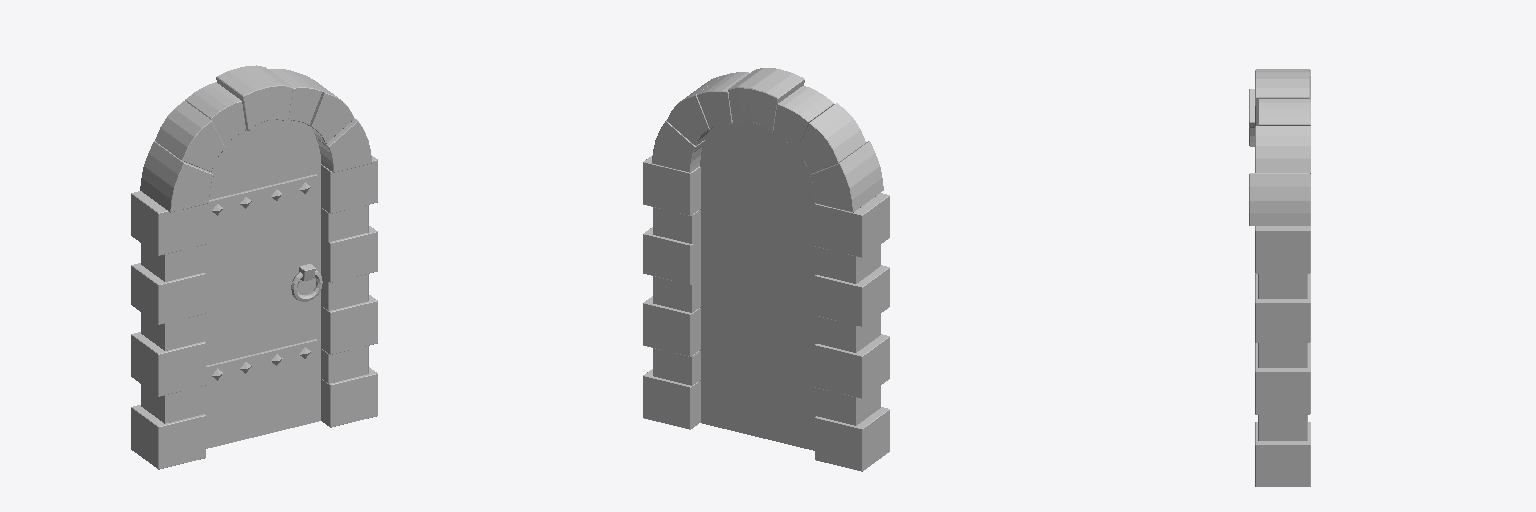
File: puertaLowPoly.obj
3 views of the same model, side by side, from view 1: azimuth 30°, elevation 25°; view 2: azimuth 150°, elevation 25°; view 3: azimuth 270°, elevation 25° (orthographic).
Visible parts, largest first — view 1: tablonPuerta2_Cube.006, tablonPuerta4_Cube.007, tablonPuerta3_Cube.008, tablonPuerta1_Cube.001, marcoPiedra1_Cube.013, marcoPiedra3_Cube.015, marcoPiedra7_Cube.019, arco1_Cube.020, marcoPiedra5_Cube.017, arcoCentral_Cube.023, arco2_Cube.021, marcoPiedra3_mirrow_Cube.015 (+16 smaller); view 2: tablonPuerta2_Cube.006, tablonPuerta4_Cube.007, tablonPuerta3_Cube.008, tablonPuerta1_Cube.001, marcoPiedra3_Cube.015, marcoPiedra1_Cube.013, marcoPiedra7_Cube.019, arco1_Cube.020, marcoPiedra5_Cube.017, arcoCentral_Cube.023, arco2_Cube.021, marcoPiedra3_mirrow_Cube.015 (+13 smaller); view 3: arco1_mirrow_Cube.020, marcoPiedra3_mirrow_Cube.015, marcoPiedra1_mirrow_Cube.013, marcoPiedra7_mirrow_Cube.019, arco2_mirrow_Cube.021, marcoPiedra5_mirrow_Cube.017, arcoCentral_Cube.023, arco3_mirrow_Cube.022, marcoPiedra2_mirrow_Cube.014, marcoPiedra4_mirrow_Cube.016, marcoPiedra6_mirrow_Cube.018.
Part boxes in pixels (x1,y1,x2,y2): tablonPuerta2_Cube.006: (227, 124, 258, 443); tablonPuerta4_Cube.007: (259, 120, 289, 435); tablonPuerta3_Cube.008: (290, 120, 320, 427); tablonPuerta1_Cube.001: (205, 144, 226, 448); marcoPiedra1_Cube.013: (131, 405, 205, 469); marcoPiedra3_Cube.015: (131, 332, 205, 396); marcoPiedra7_Cube.019: (131, 191, 205, 255); arco1_Cube.020: (140, 141, 213, 212); marcoPiedra5_Cube.017: (131, 263, 205, 324); arcoCentral_Cube.023: (216, 65, 292, 130); arco2_Cube.021: (155, 101, 224, 171); marcoPiedra3_mirrow_Cube.015: (321, 295, 377, 354); tablonPuerta2_Cube.006: (762, 126, 793, 445); tablonPuerta4_Cube.007: (731, 122, 761, 437); tablonPuerta3_Cube.008: (700, 124, 730, 429); tablonPuerta1_Cube.001: (794, 149, 816, 450); marcoPiedra3_Cube.015: (815, 334, 889, 398); marcoPiedra1_Cube.013: (815, 407, 889, 471); marcoPiedra7_Cube.019: (815, 193, 889, 257); arco1_Cube.020: (810, 141, 883, 212); marcoPiedra5_Cube.017: (815, 265, 889, 326); arcoCentral_Cube.023: (728, 68, 804, 132); arco2_Cube.021: (796, 103, 865, 173); marcoPiedra3_mirrow_Cube.015: (643, 296, 700, 356); arco1_mirrow_Cube.020: (1249, 173, 1310, 225); marcoPiedra3_mirrow_Cube.015: (1255, 349, 1310, 414); marcoPiedra1_mirrow_Cube.013: (1255, 422, 1310, 486); marcoPiedra7_mirrow_Cube.019: (1255, 226, 1310, 273); arco2_mirrow_Cube.021: (1255, 126, 1310, 173); marcoPiedra5_mirrow_Cube.017: (1255, 280, 1310, 342); arcoCentral_Cube.023: (1255, 69, 1309, 125); arco3_mirrow_Cube.022: (1259, 99, 1310, 125); marcoPiedra2_mirrow_Cube.014: (1258, 415, 1307, 440); marcoPiedra4_mirrow_Cube.016: (1258, 343, 1307, 367); marcoPiedra6_mirrow_Cube.018: (1258, 274, 1307, 298).
Size of the model in its own units: 9.14 by 14.15 by 2.2.